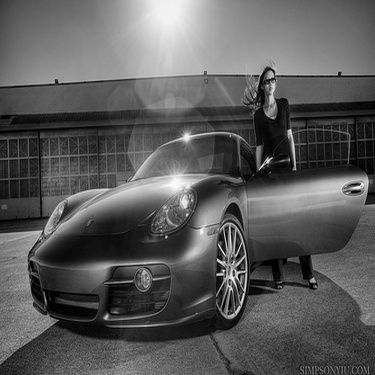car: (16, 102, 353, 321)
